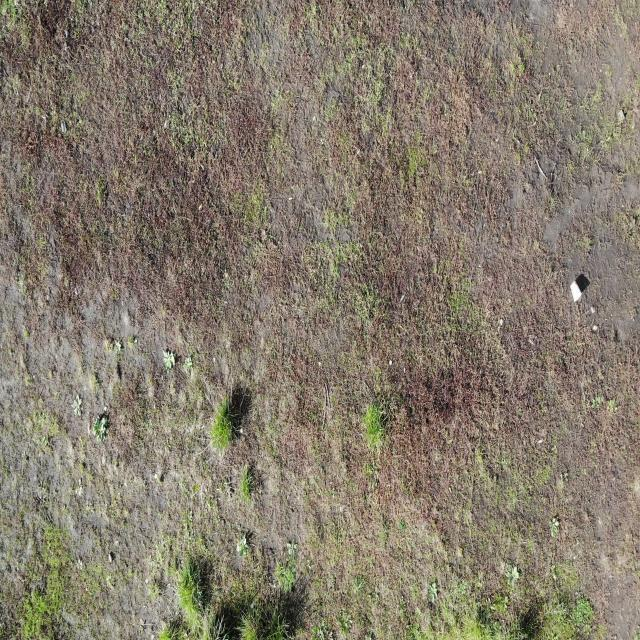rubbish: (569, 279, 583, 303)
